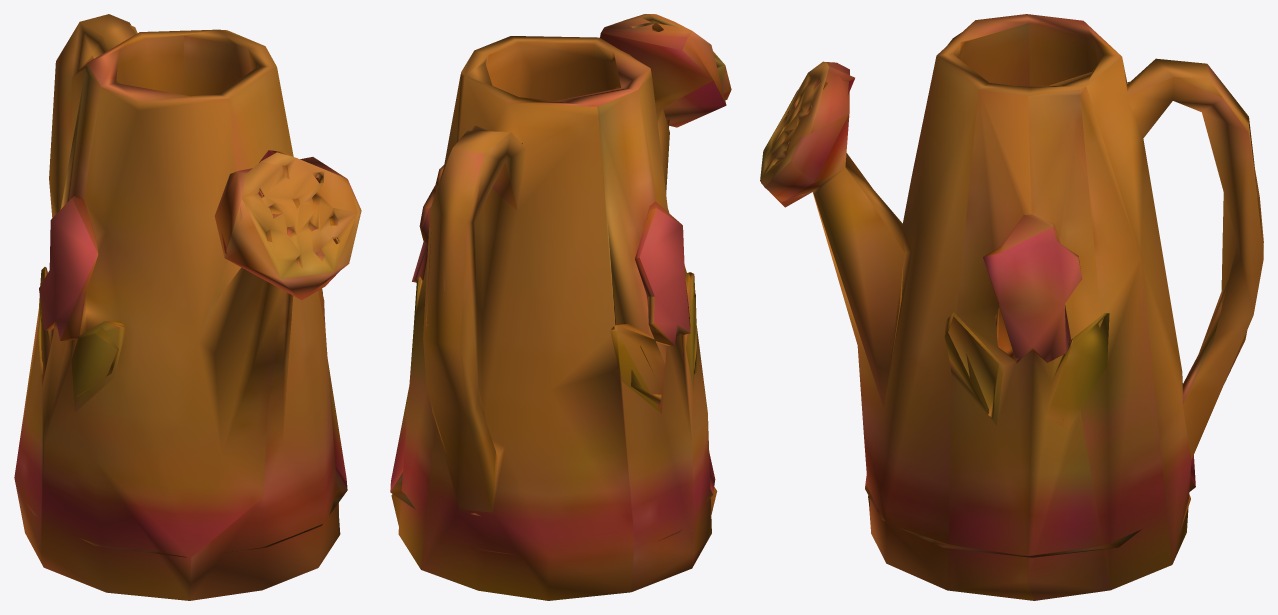
Rendered from watering_can.glb.
The picture shows the model from 3 angles, left to right: view 1: azimuth 30°, elevation 25°; view 2: azimuth 150°, elevation 25°; view 3: azimuth 270°, elevation 25°; orthographic projection. The views are drawn at different scales.
Bounding box in the file's own units: 0.6385 × 1 × 0.9576.
Materials: 1 (1 with a texture image).
